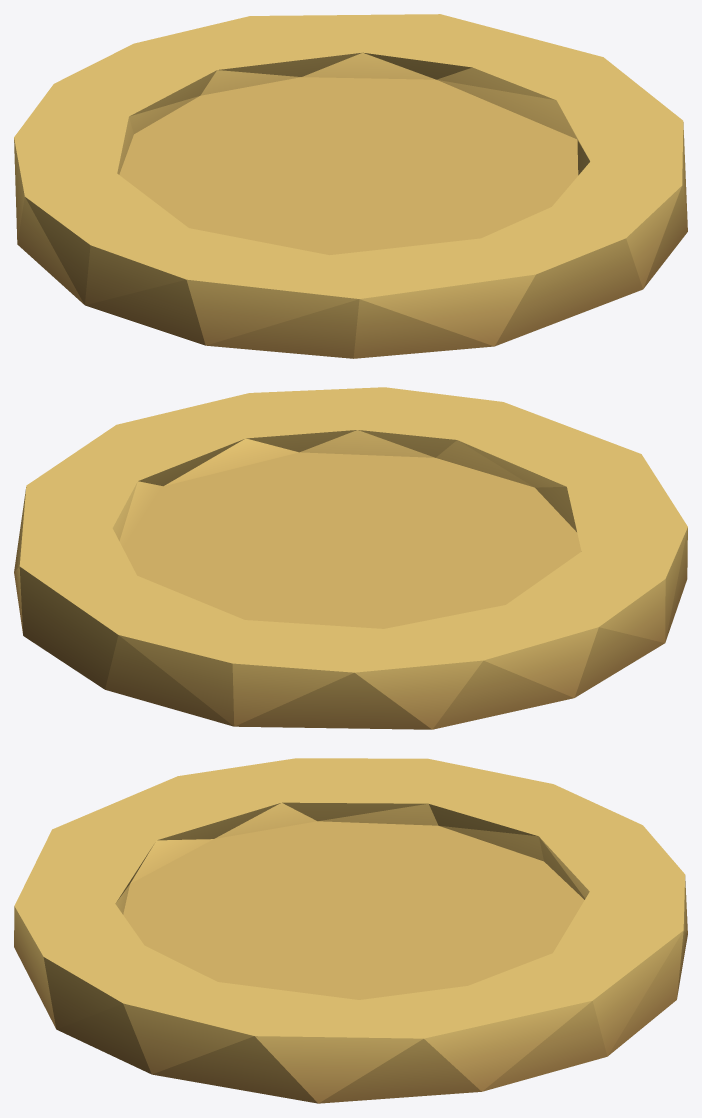
File: SM_Coin_01.fbx
3 views of the same model, one above another, from view 1: azimuth 30°, elevation 25°; view 2: azimuth 150°, elevation 25°; view 3: azimuth 270°, elevation 25° (orthographic).
Visible parts, largest first — view 1: SM_Coin_01; view 2: SM_Coin_01; view 3: SM_Coin_01.
Part boxes in pixels (x1,y1,x2,y2): SM_Coin_01: (14,14,687,358); SM_Coin_01: (14,387,687,729); SM_Coin_01: (14,758,687,1103).
Size of the model in its own units: 9.97 by 1 by 9.95.
